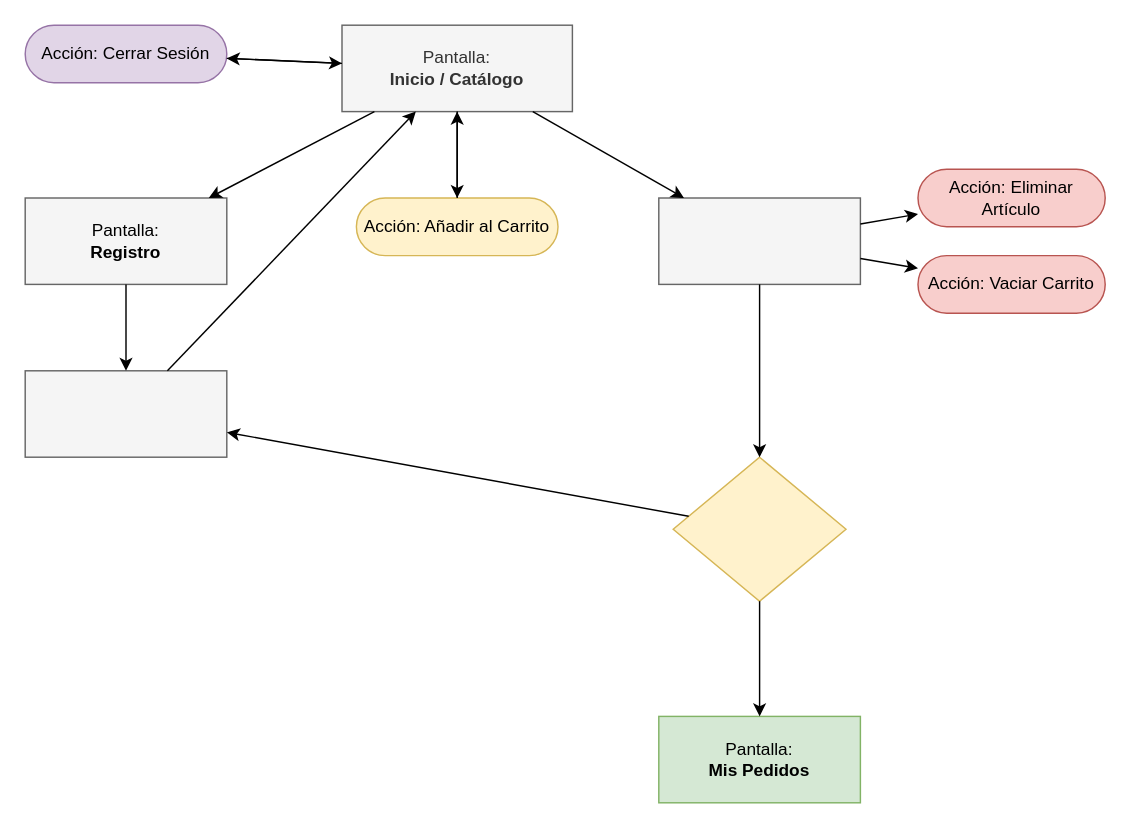
This 1130x828 diagram has some shape labels left out. Each missing label, with the centre of its shape:
Pantalla: Login: (125,413)
Pantalla: Ver Carrito: (758,240)
¿Está Logueado?: (759,528)
